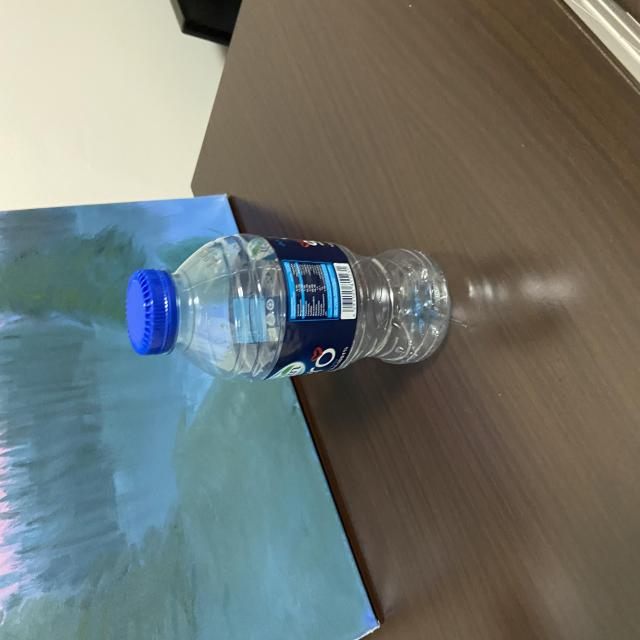plastic: (122, 231, 453, 382)
